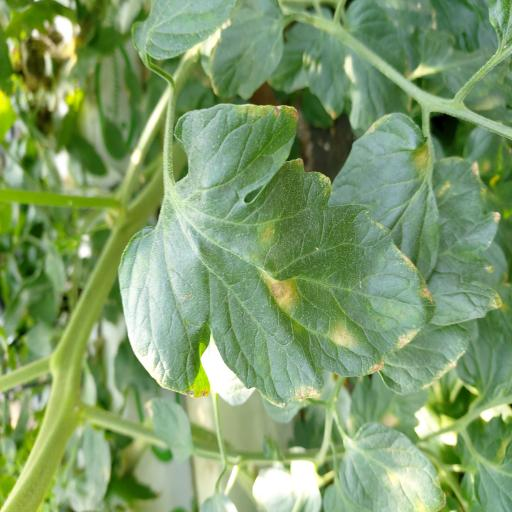Leaf Mold: (116, 102, 429, 410)
